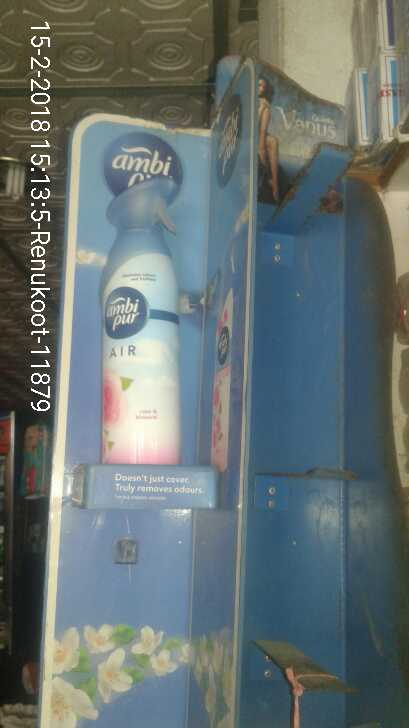ambipure: (95, 172, 191, 473)
